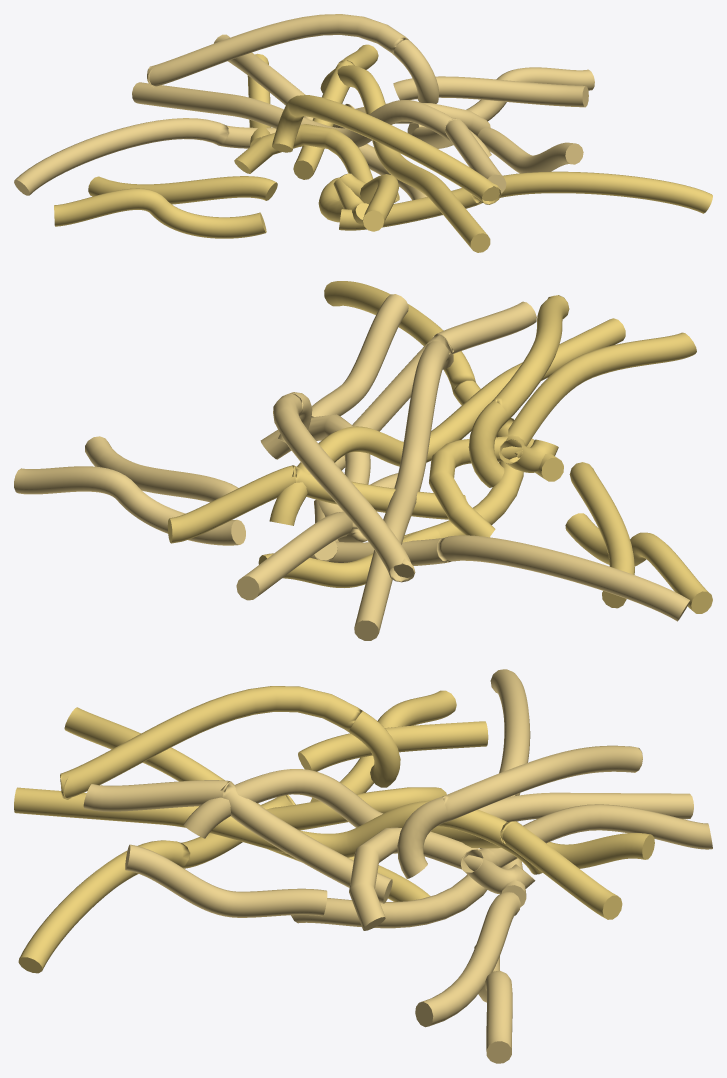
Rendered from driedbananablossom.fbx.
The picture shows the model from 3 angles, top to bottom: view 1: azimuth 30°, elevation 25°; view 2: azimuth 150°, elevation 25°; view 3: azimuth 270°, elevation 25°; orthographic projection. The views are drawn at different scales.
Parts seen in each view (by area): view 1: NurbsPath.001, NurbsPath; view 2: NurbsPath, NurbsPath.001; view 3: NurbsPath, NurbsPath.001.
Boxes of the visible parts, box(x1,y1,x2,y2) form: NurbsPath.001: box(54, 44, 712, 252); NurbsPath: box(14, 14, 594, 200); NurbsPath: box(14, 294, 690, 640); NurbsPath.001: box(167, 281, 712, 613); NurbsPath: box(83, 669, 712, 1063); NurbsPath.001: box(14, 686, 654, 973).
Bounding box in the file's own units: 61.02 × 16.34 × 53.3.
